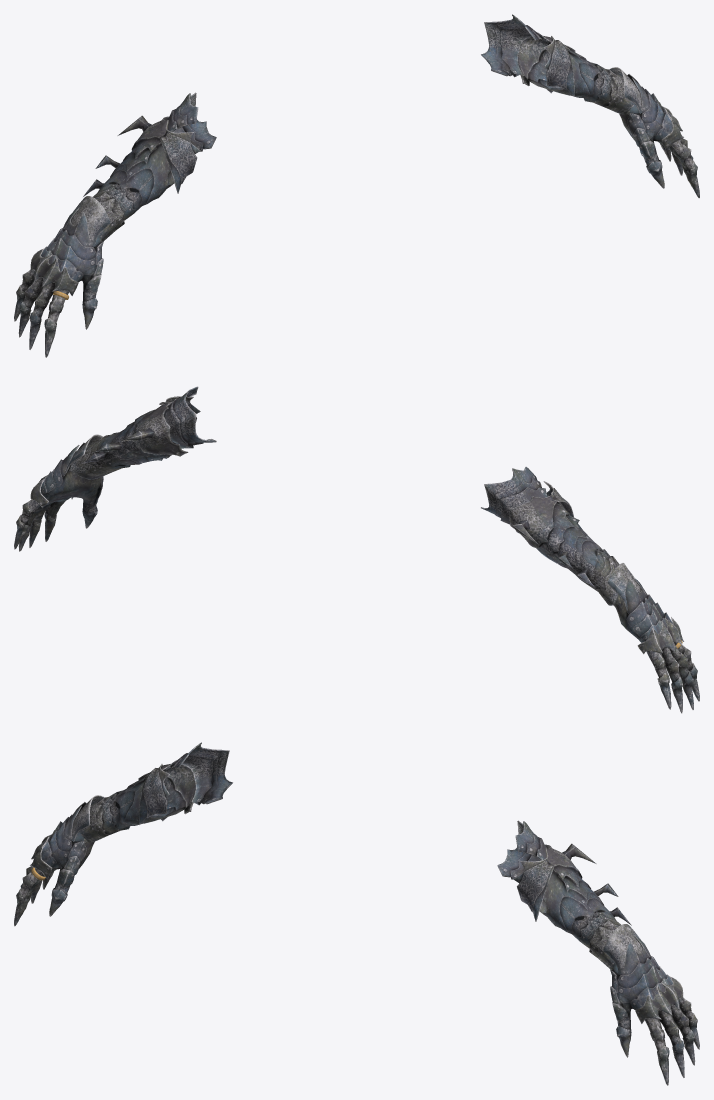
Rendered from sauron_vambraces.fbx.
3 views of the same model, one above another, from view 1: azimuth 30°, elevation 25°; view 2: azimuth 150°, elevation 25°; view 3: azimuth 330°, elevation 25° (orthographic).
Visible parts, largest first — view 1: sauron_vambraces.1, sauron_vambraces.0; view 2: sauron_vambraces.1, sauron_vambraces.0; view 3: sauron_vambraces.1, sauron_vambraces.0.
Part boxes in pixels (left/top/right/bottom): sauron_vambraces.1: left=83, top=14, right=636, bottom=241; sauron_vambraces.0: left=14, top=67, right=699, bottom=357; sauron_vambraces.1: left=69, top=386, right=619, bottom=605; sauron_vambraces.0: left=14, top=434, right=699, bottom=713; sauron_vambraces.1: left=79, top=742, right=631, bottom=969; sauron_vambraces.0: left=14, top=795, right=699, bottom=1085.
Size of the model in its own units: 1.6 by 0.2093 by 0.4801.
Materials: 3 (3 with a texture image).
